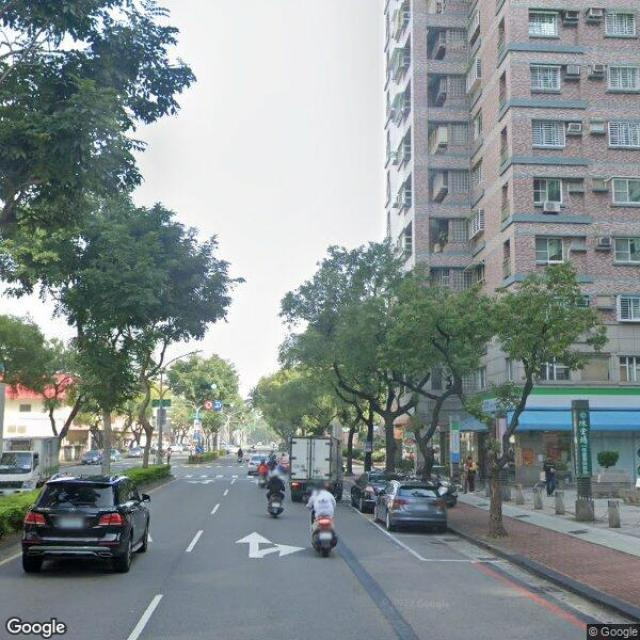Legalparking: (350, 472, 446, 532)
